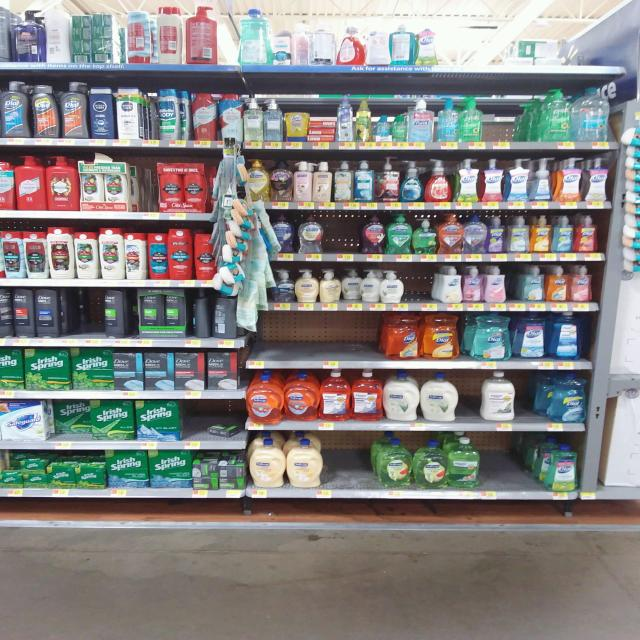empty_space: (265, 322, 371, 358), (489, 443, 527, 485), (328, 443, 366, 481), (493, 95, 517, 141)
